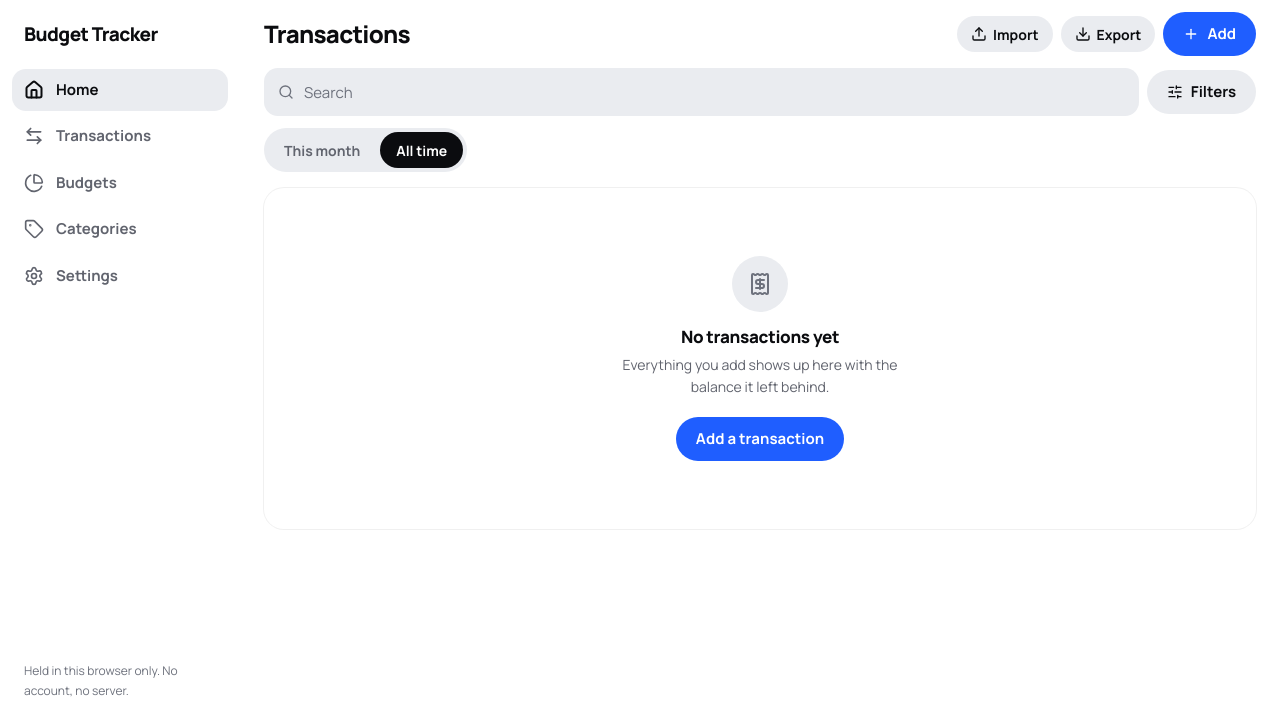
Test: recording an entry › adds a transaction and shows it in the list
expect the text "No transactions yet" is shown: met, box [681, 325, 839, 348]
Click the button with aria-label "add transaction".
click(1210, 34)  # box [1163, 12, 1256, 56]
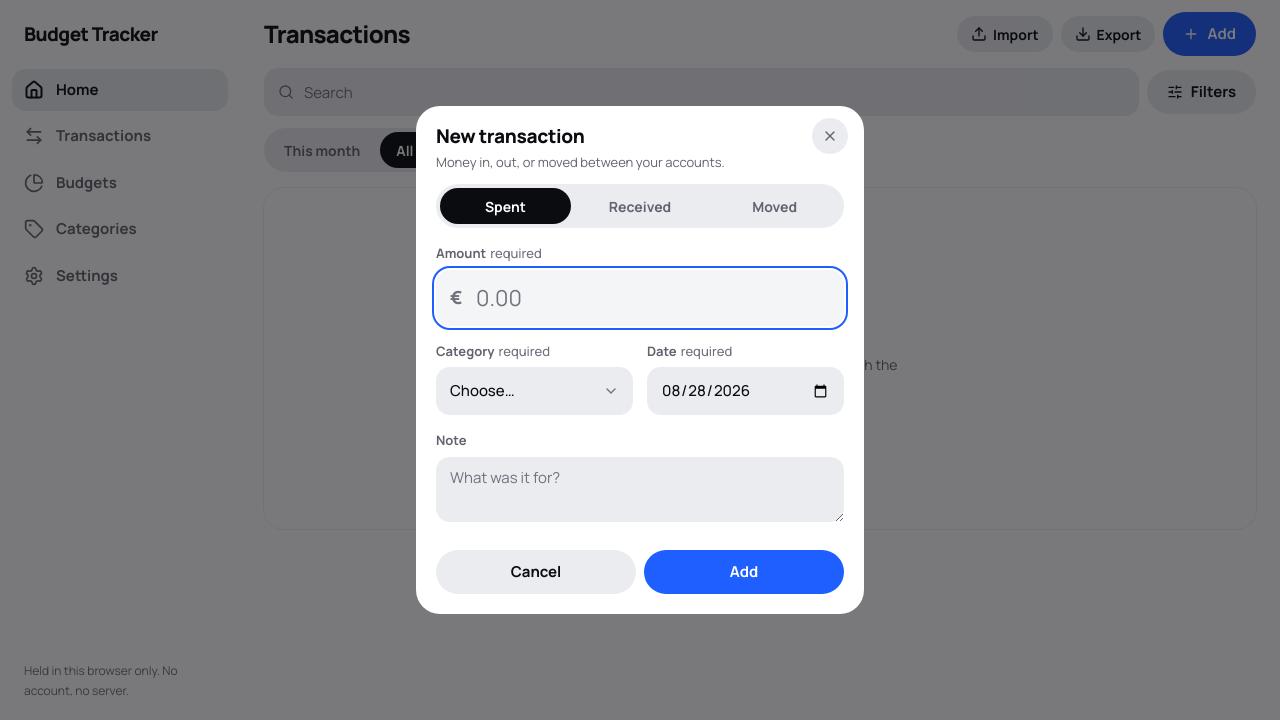
Type "32.90" into the field labelled "Amount".
click(640, 298); type("32.90")  # box [436, 270, 844, 326]
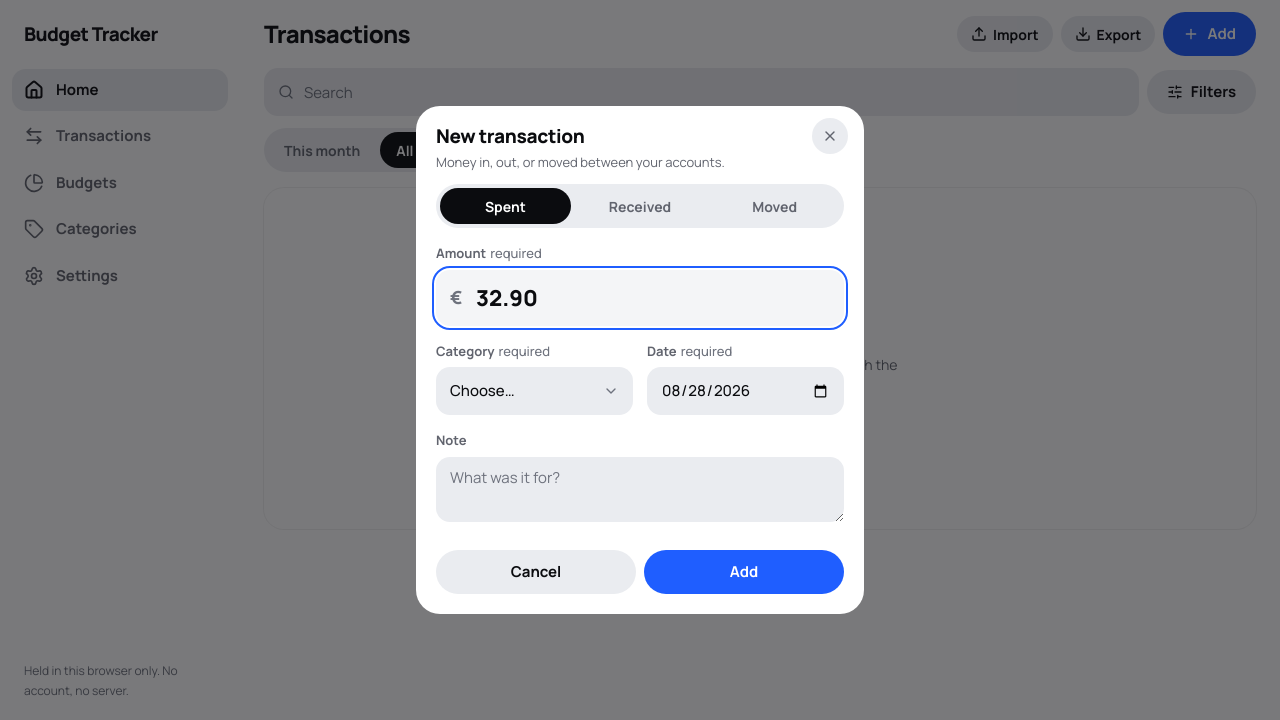
Select "Groceries" in the dropdown labelled "Category" at (534, 391), box [436, 367, 633, 415]
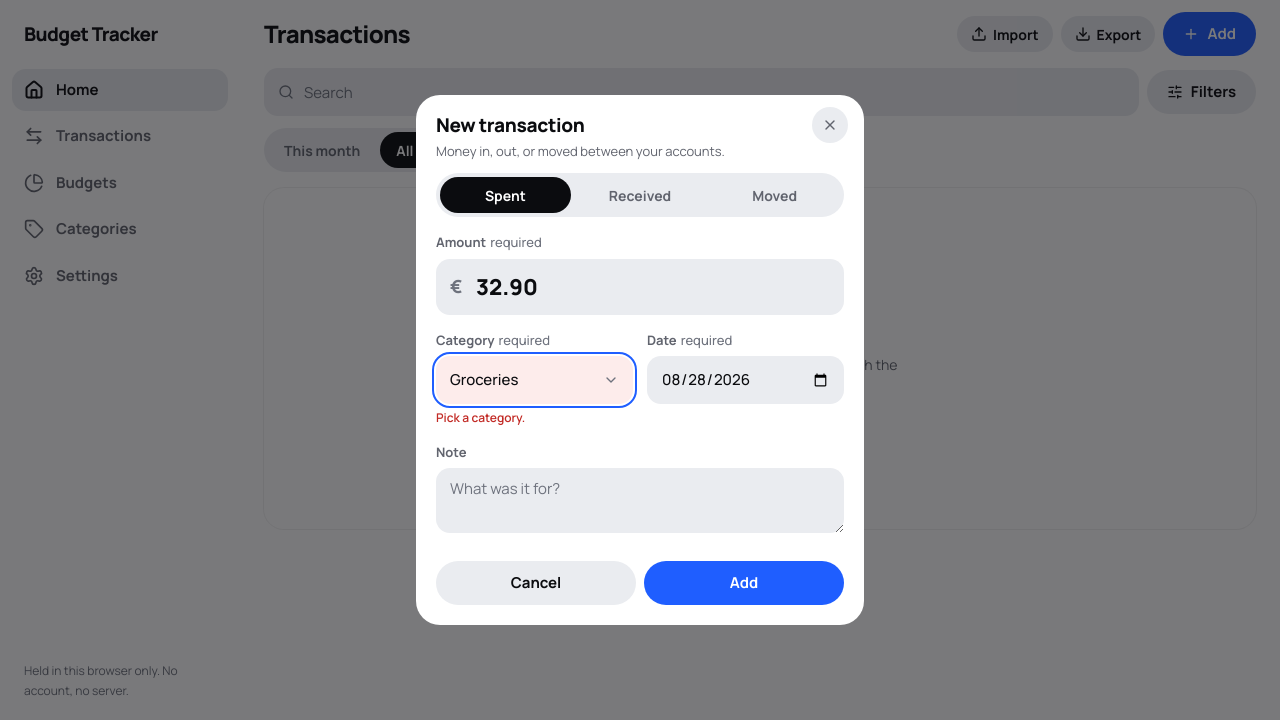
Type "Market run" into the text box labelled "Note".
click(640, 500); type("Market run")  # box [436, 468, 844, 533]
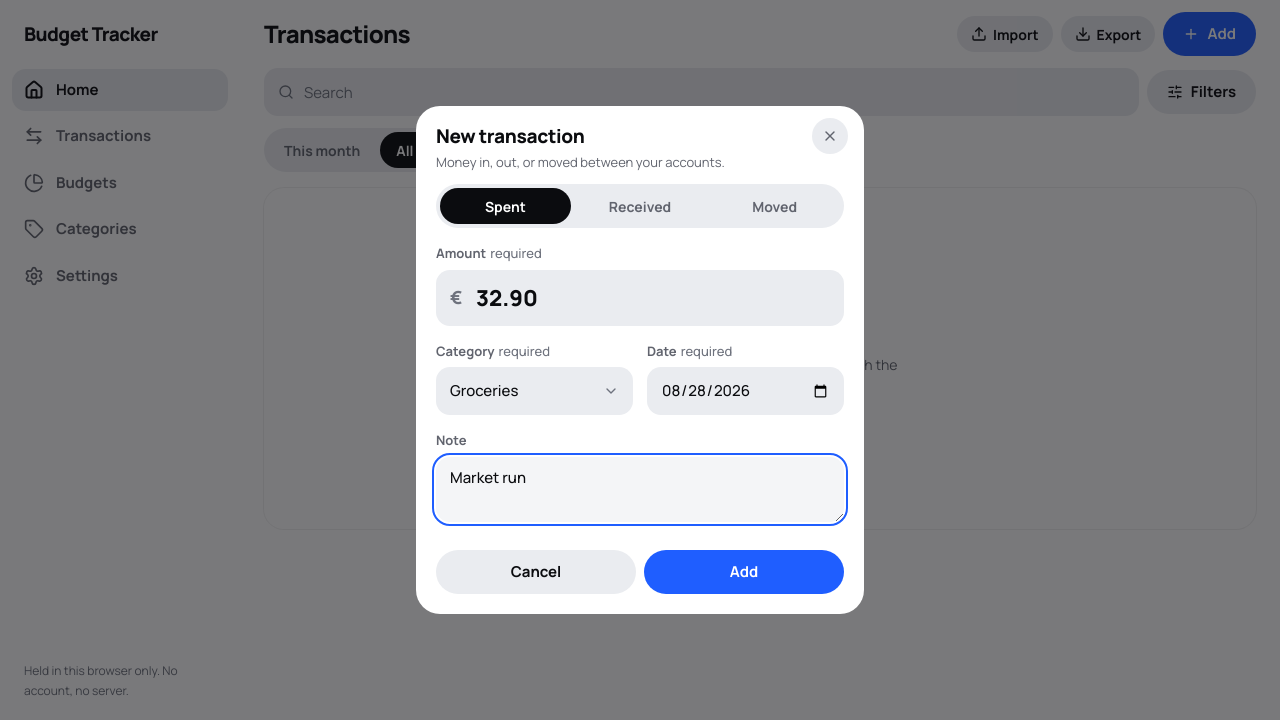
Click the button "Add".
click(744, 572)  # box [644, 550, 844, 594]
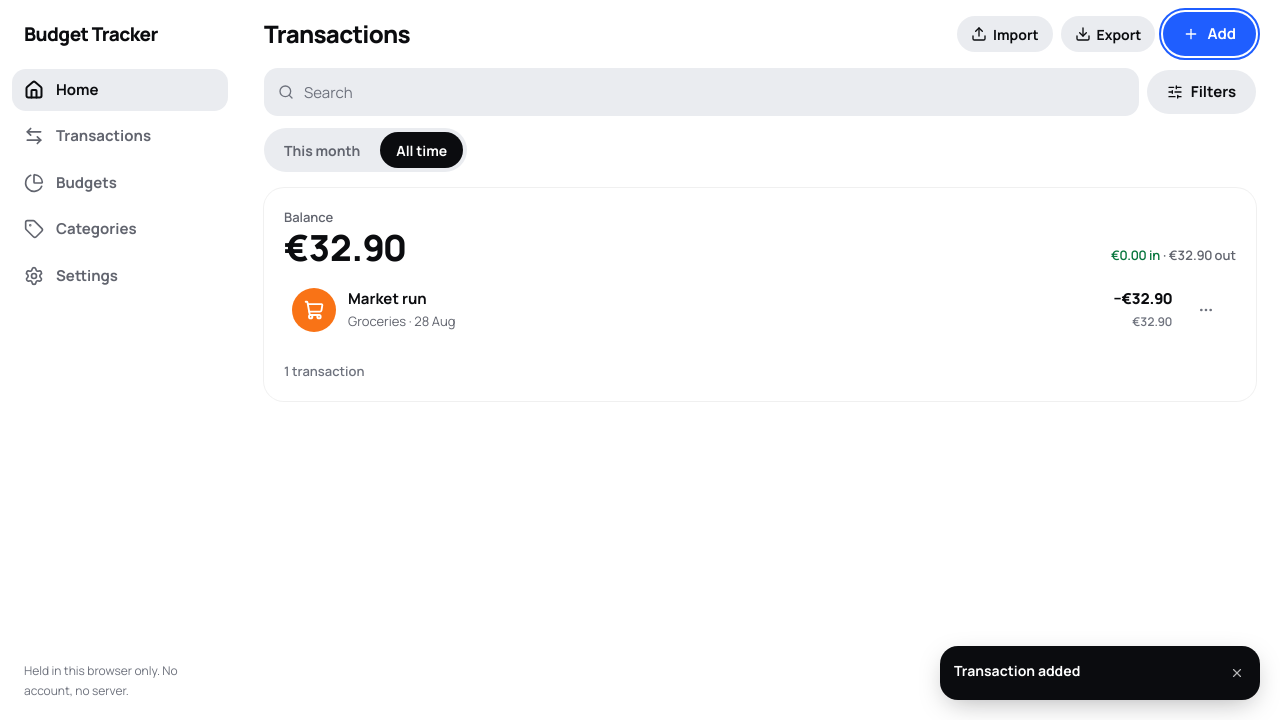
expect the dialog is gone: met
expect the text "−€32.90" is shown 2 times: met, box [1114, 288, 1172, 309]; [1132, 313, 1172, 330]
expect the list item "Market run" shows "Groceries": met, box [348, 312, 406, 330]
